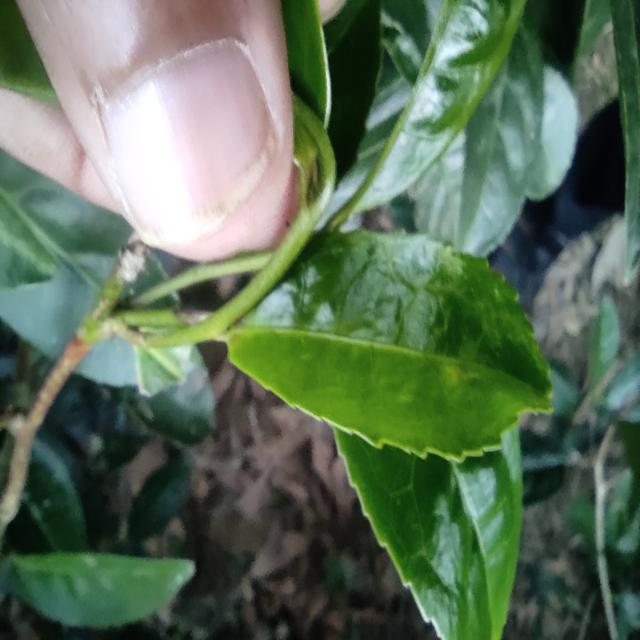Category C(4-7 days): (203, 190, 563, 479)
